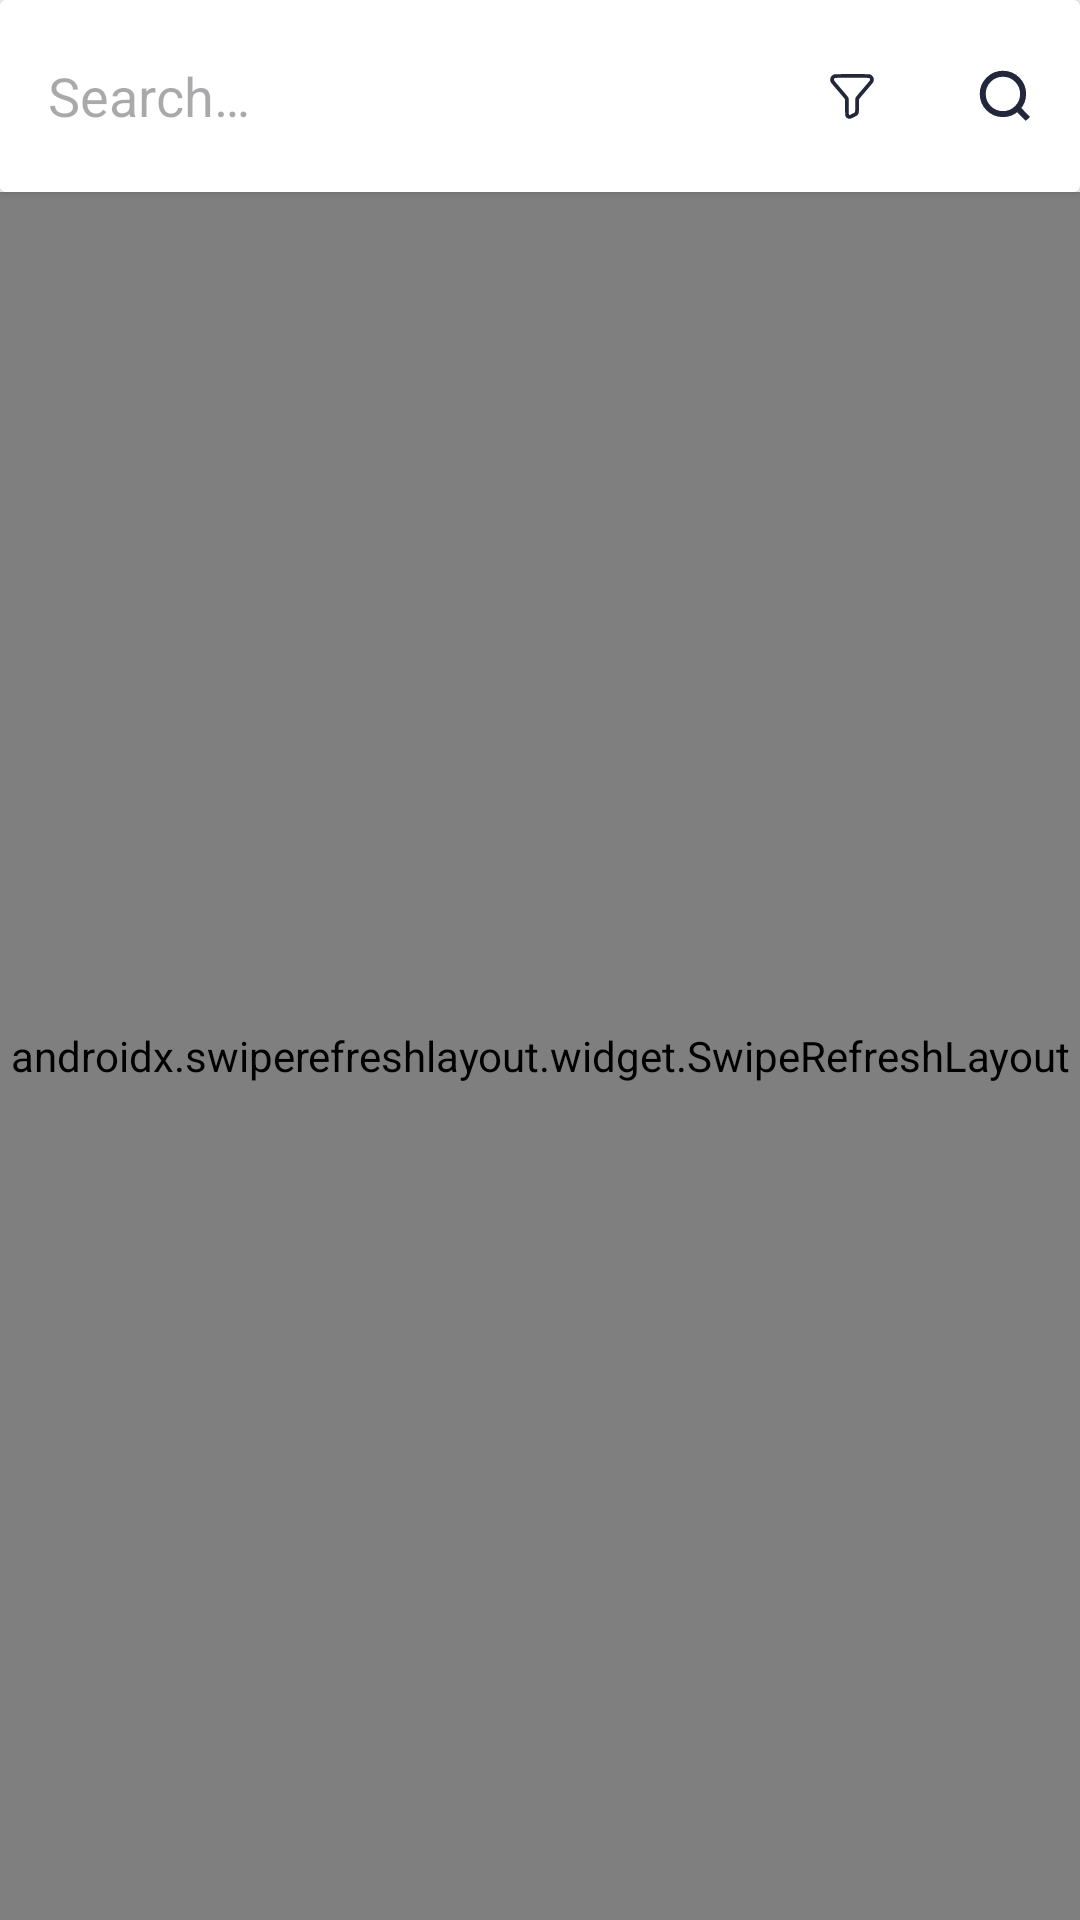

Icons on this 1080w x 1920h Android screen, each with the point to tap as point (x, y):
filter: point (852, 96)
search: point (1004, 95)
